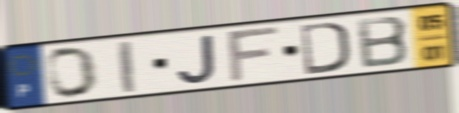B: (354, 14, 411, 71)
D: (298, 20, 353, 77)
F: (226, 24, 283, 85)
I: (115, 38, 138, 96)
J: (174, 33, 219, 86)
O: (45, 44, 100, 100)
